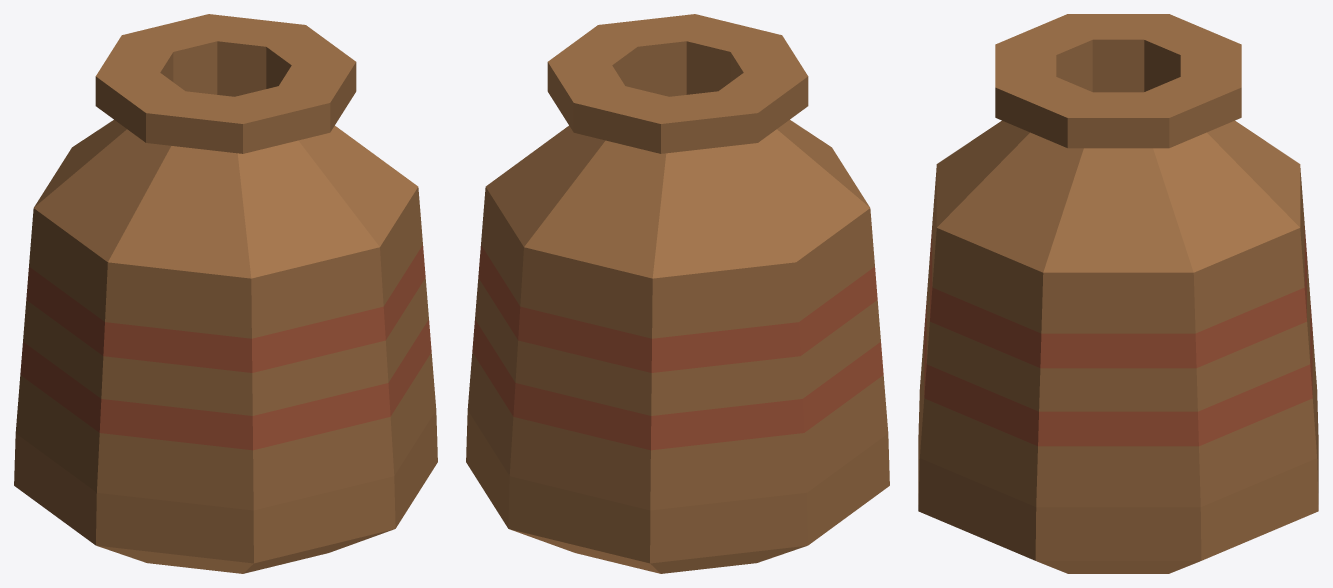
Rendered from Jug_02.fbx.
The picture shows the model from 3 angles, left to right: view 1: azimuth 30°, elevation 25°; view 2: azimuth 150°, elevation 25°; view 3: azimuth 270°, elevation 25°; orthographic projection.
Visible parts, largest first — view 1: Jug_02; view 2: Jug_02; view 3: Jug_02.
Boxes of the visible parts, x1,y1,x2,y2 form: Jug_02: (14, 14, 437, 573); Jug_02: (466, 14, 889, 573); Jug_02: (918, 14, 1318, 573).
Bounding box in the file's own units: 37.68 × 47.41 × 37.68.
